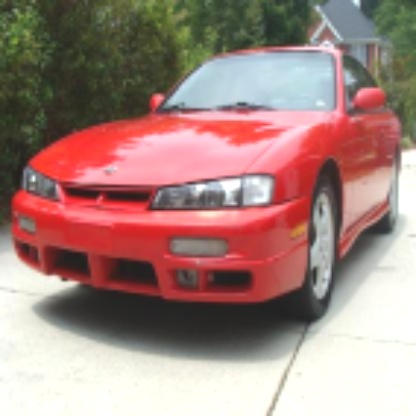Vehicle: (10, 42, 404, 326)
